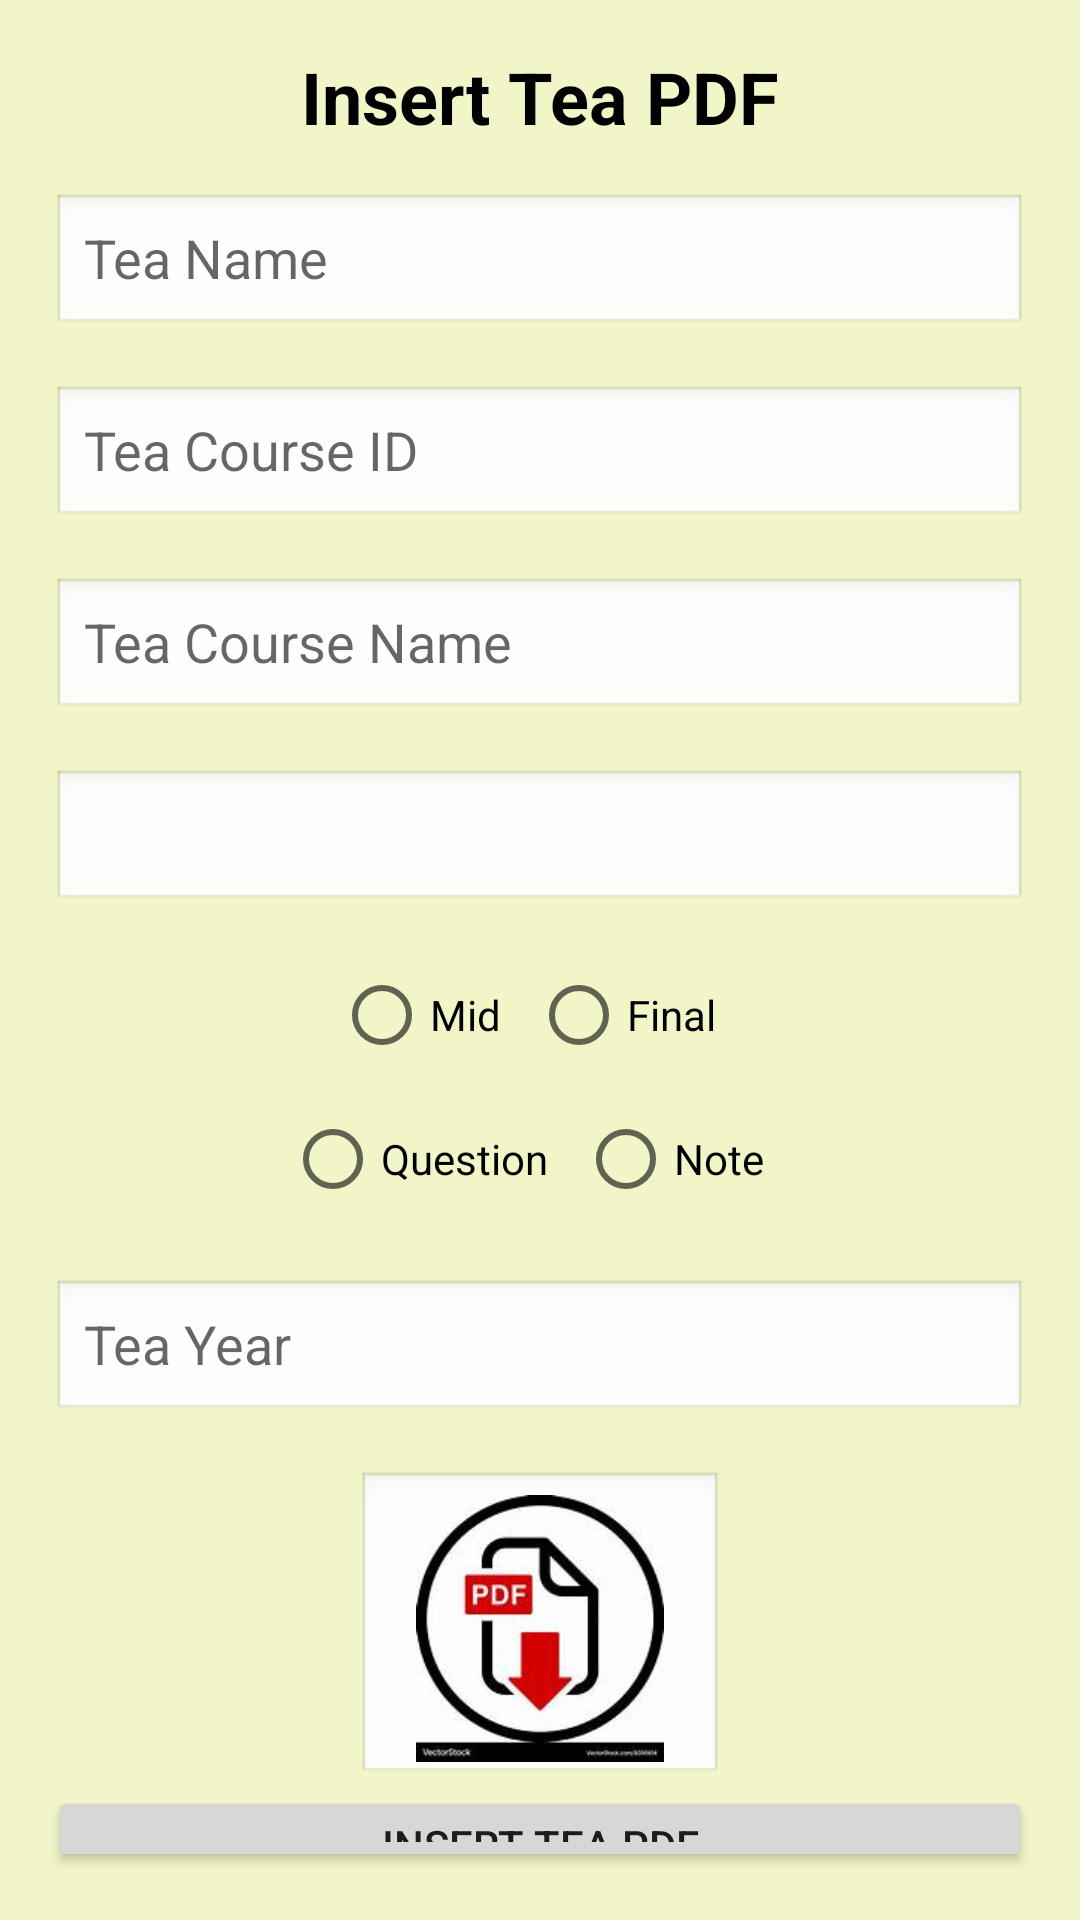

Point at icon controls on the screen. Image size 1080 × 1920, points as point (x, y).
select pdf: point (540, 1620)
